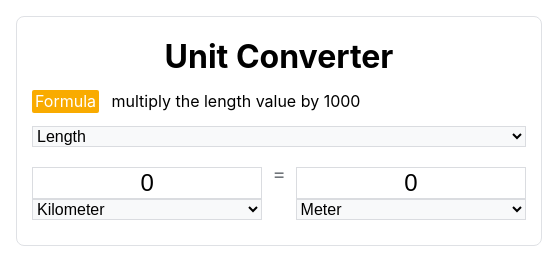
Test case: Regression Test Suite › All inputs work › Unit type selector works
Select "Mass" in the dropdown with test id "unit-type-selector" at {"x": 279, "y": 136}, box [32,126,526,147]
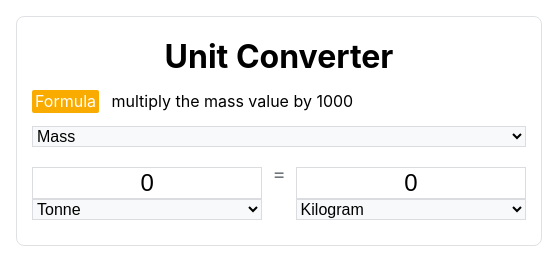
Check: the 1st field with test id "unit-input" holds "0", box [32,167,262,199]
Check: the 2nd dropdown with test id "unit-selector" shows "Tonne", box [32,199,262,220]
Check: the 3rd dropdown with test id "unit-selector" shows "Kilogram", box [296,199,526,220]
